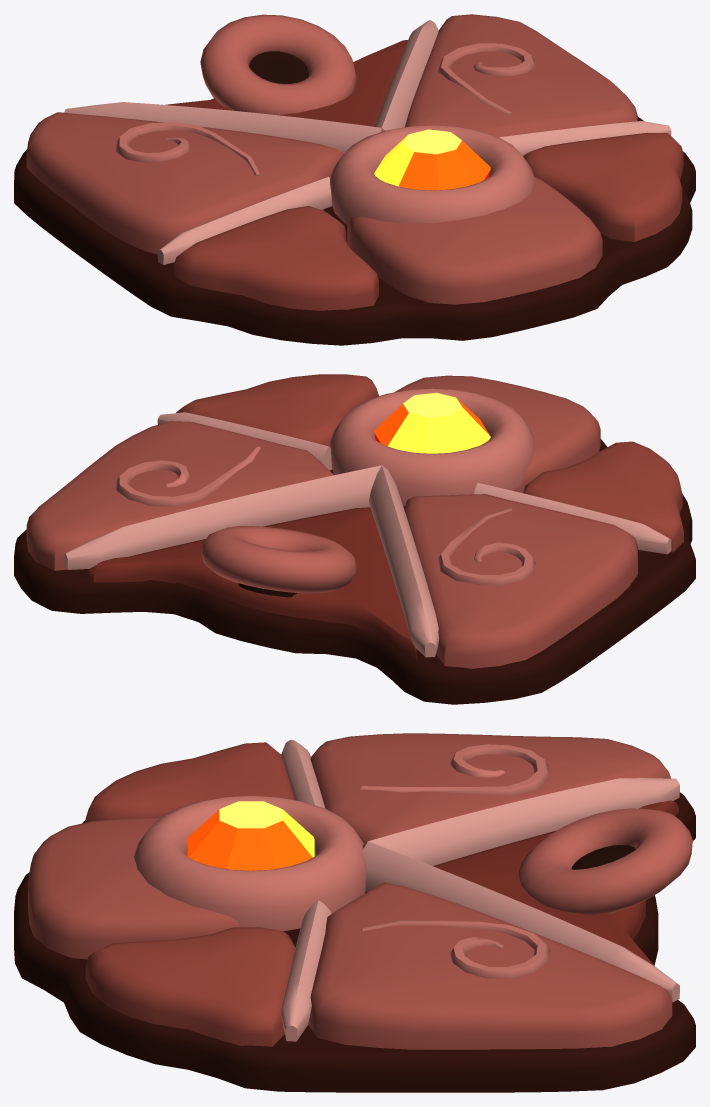
The model's file is medallion_red.glb.
3 views of the same model, one above another, from view 1: azimuth 30°, elevation 25°; view 2: azimuth 150°, elevation 25°; view 3: azimuth 270°, elevation 25° (orthographic). The views are drawn at different scales.
Parts seen in each view (by area): view 1: plate, wing_l, lower_centre, wing_r, lower_l, lower_r, bezel, loop, arm_l, gem_cut, top_centre, lower_arm_l (+5 smaller); view 2: plate, wing_l, wing_r, top_centre, bezel, arm_r, lower_l, loop, lower_r, lower_centre, arm_l, gem_cut (+4 smaller); view 3: wing_r, plate, wing_l, lower_r, lower_centre, bezel, loop, arm_l, lower_l, arm_r, gem_cut, top_centre (+5 smaller).
Part boxes in pixels (x1,y1,x2,y2): plate: (14,116,695,345); wing_l: (26,112,343,254); lower_centre: (347,176,602,304); wing_r: (405,14,637,137); lower_l: (173,206,378,310); lower_r: (523,132,683,241); bezel: (330,125,534,224); loop: (200,14,357,114); arm_l: (64,102,381,152); gem_cut: (374,129,490,190); top_centre: (165,40,407,126); lower_arm_l: (157,176,332,264); plate: (14,439,695,704); wing_l: (404,494,637,668); wing_r: (26,421,333,570); top_centre: (86,507,416,662); bezel: (330,388,535,506); arm_r: (63,465,381,569); lower_l: (523,441,683,552); loop: (200,526,357,593); lower_r: (176,374,378,446); lower_centre: (394,375,600,493); arm_l: (369,465,439,657); gem_cut: (374,392,490,453); wing_r: (308,882,672,1049); plate: (14,792,695,1092); wing_l: (310,733,670,843); lower_r: (85,927,295,1046); lower_centre: (28,817,240,959); bezel: (134,795,366,931); loop: (518,808,692,914); arm_l: (362,778,679,865); lower_l: (85,742,294,822); arm_r: (362,841,679,1002); gem_cut: (187,801,314,870); top_centre: (433,800,678,966).
Bounding box in the file's own units: 23.9 × 4.67 × 22.78.
